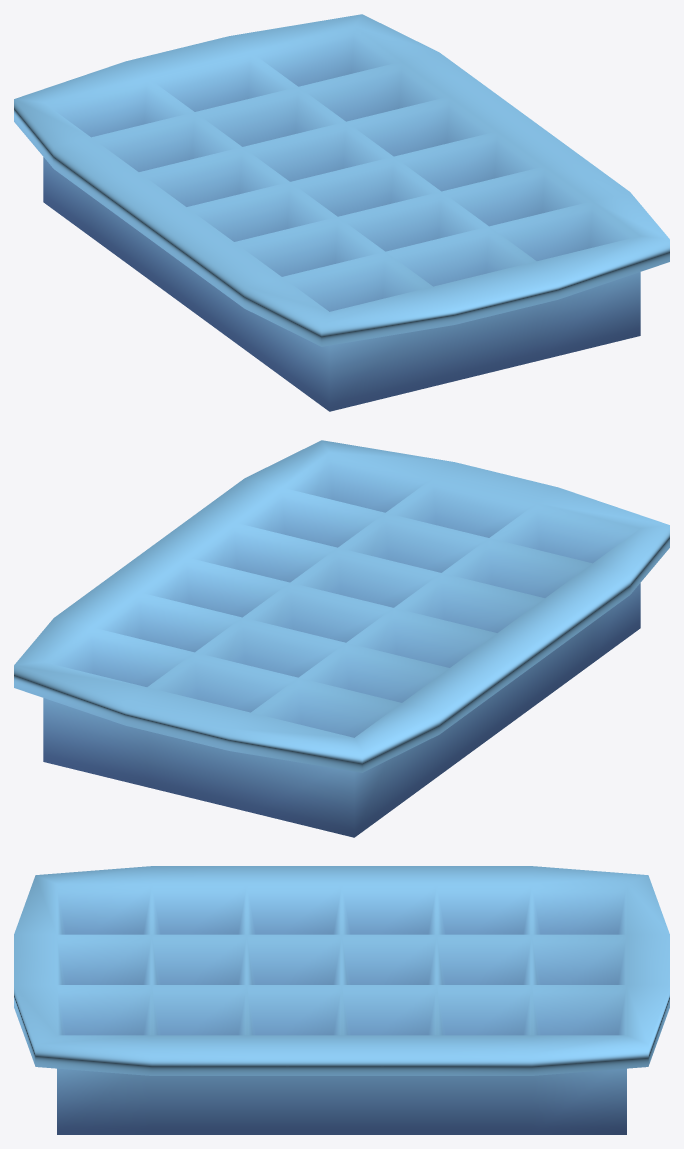
Rendered from IceTray.fbx.
3 views of the same model, one above another, from view 1: azimuth 30°, elevation 25°; view 2: azimuth 150°, elevation 25°; view 3: azimuth 270°, elevation 25° (orthographic).
Visible parts, largest first — view 1: Ice_Cube_tray; view 2: Ice_Cube_tray; view 3: Ice_Cube_tray.
Boxes of the visible parts, <box> form: Ice_Cube_tray: <box>14,14,669,411</box>; Ice_Cube_tray: <box>14,440,669,837</box>; Ice_Cube_tray: <box>14,866,669,1134</box>.
Size of the model in its own units: 390 by 96.52 by 576.
